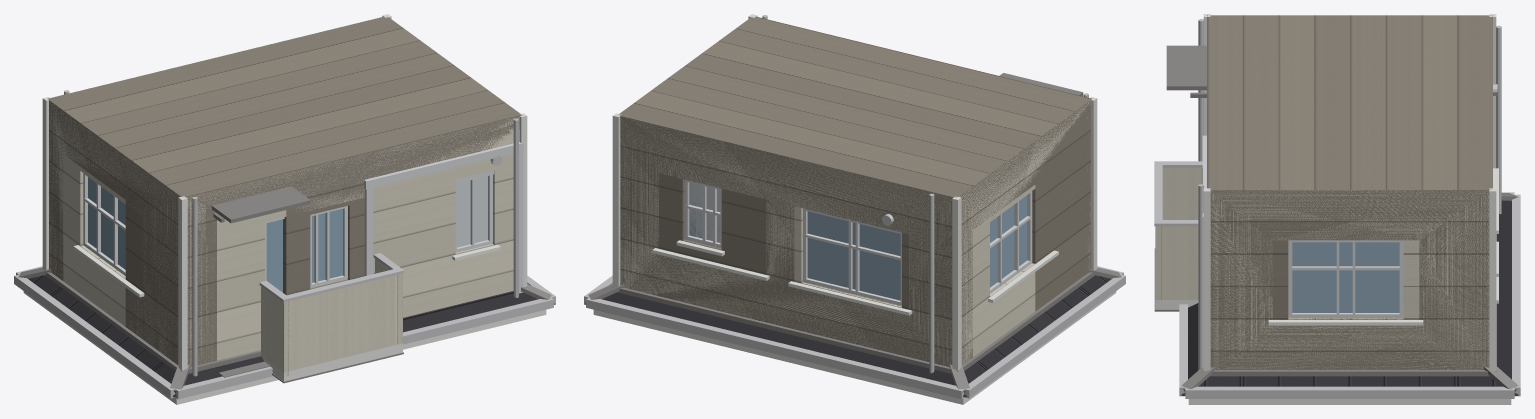
The model's file is neighbor_house.glb.
The picture shows the model from 3 angles, left to right: view 1: azimuth 30°, elevation 25°; view 2: azimuth 150°, elevation 25°; view 3: azimuth 270°, elevation 25°; orthographic projection. The views are drawn at different scales.
Parts seen in each view (by area): view 1: nh_base_wall, nh_mid_wall, nh_balc_main, nh_base_trim, nh_roof_eave, nh_roof_hip, nh_mid_glass, nh_base_sash, nh_base_glass, nh_mid_sash, nh_base_pipe, nh_mid_sill (+1 smaller); view 2: nh_base_wall, nh_mid_wall, nh_roof_eave, nh_base_glass, nh_base_trim, nh_roof_hip, nh_mid_glass, nh_base_sash, nh_mid_sash, nh_mid_sill, nh_base_pipe, nh_roof_hipcap (+1 smaller); view 3: nh_base_wall, nh_mid_wall, nh_roof_eave, nh_base_trim, nh_base_glass, nh_balc_main, nh_roof_hip, nh_mid_glass, nh_base_sash, nh_base_pipe, nh_mid_sash, nh_base_sill (+2 smaller).
Part boxes in pixels (x1,y1,x2,y2): nh_base_wall: (47, 16, 522, 366); nh_mid_wall: (49, 101, 519, 366); nh_balc_main: (259, 253, 404, 383); nh_base_trim: (42, 14, 527, 377); nh_roof_eave: (14, 266, 555, 404); nh_roof_hip: (28, 275, 555, 397); nh_mid_glass: (88, 176, 487, 292); nh_base_sash: (96, 142, 523, 293); nh_base_glass: (88, 177, 342, 282); nh_mid_sash: (83, 173, 492, 286); nh_base_pipe: (64, 90, 518, 376); nh_mid_sill: (73, 244, 500, 297); nh_base_wall: (618, 16, 1092, 366); nh_mid_wall: (620, 100, 1090, 366); nh_roof_eave: (584, 266, 1125, 404); nh_base_glass: (689, 182, 1027, 300); nh_base_trim: (612, 14, 1097, 373); nh_roof_hip: (584, 275, 1111, 397); nh_mid_glass: (689, 184, 1013, 300); nh_base_sash: (684, 179, 1032, 305); nh_mid_sash: (684, 183, 1032, 304); nh_mid_sill: (652, 248, 1058, 315); nh_base_pipe: (762, 15, 1088, 373); nh_roof_hipcap: (587, 267, 1121, 393); nh_base_wall: (1207, 15, 1492, 369); nh_mid_wall: (1210, 190, 1489, 369); nh_roof_eave: (1179, 192, 1520, 404); nh_base_trim: (1166, 14, 1496, 376); nh_base_glass: (1292, 242, 1399, 312); nh_balc_main: (1154, 161, 1202, 311); nh_roof_hip: (1181, 200, 1518, 395); nh_mid_glass: (1292, 242, 1399, 312); nh_base_sash: (1202, 135, 1403, 368); nh_base_pipe: (1198, 19, 1501, 369); nh_mid_sash: (1288, 240, 1403, 317); nh_base_sill: (1284, 172, 1498, 325).
Bounding box in the file's own units: 5.9 × 2.88 × 4.62.
15 materials, 3 textured.
